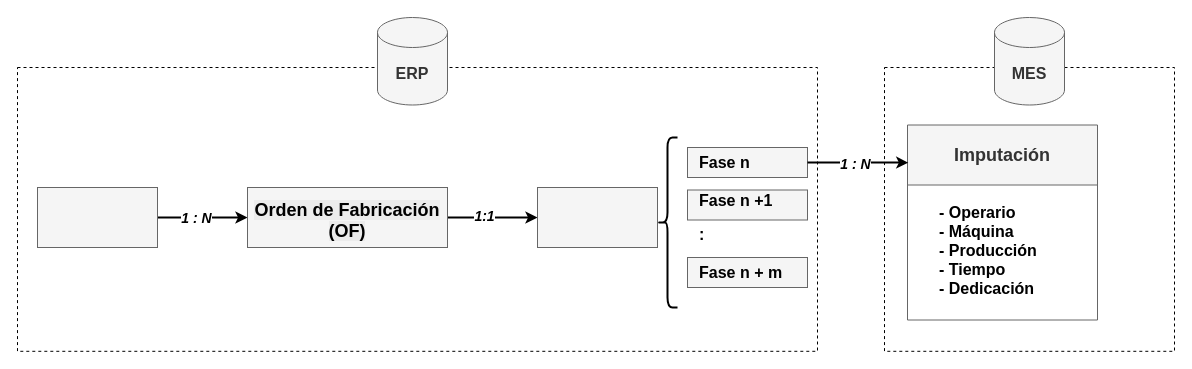
This 1192x369 diagram has some shape labels left out. Each missing label, with the box of its shape:
Articulo: (36, 186, 158, 248)
Ruta de Fabricación: (536, 186, 658, 248)
